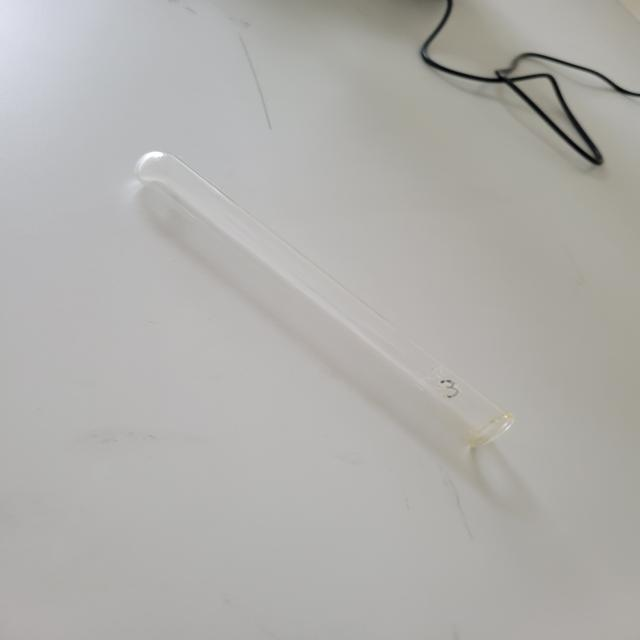Test_Tube: (100, 88, 536, 486)
